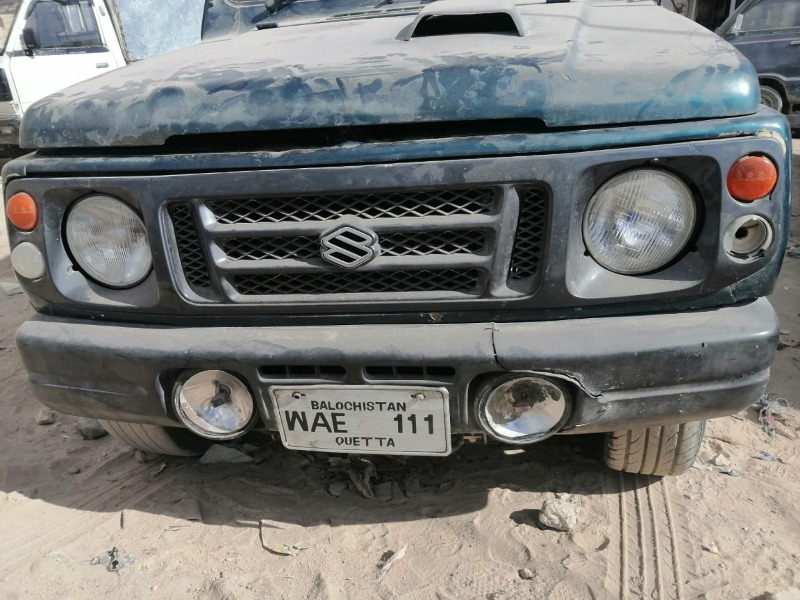License Plate: (267, 380, 456, 460)
